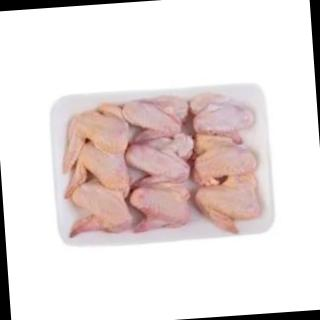Ayam: (58, 87, 263, 243), (69, 171, 134, 238), (62, 104, 133, 163), (197, 175, 264, 235), (63, 142, 132, 197), (128, 131, 195, 183), (133, 175, 192, 233), (125, 91, 191, 139), (195, 130, 257, 181), (192, 91, 255, 138)
